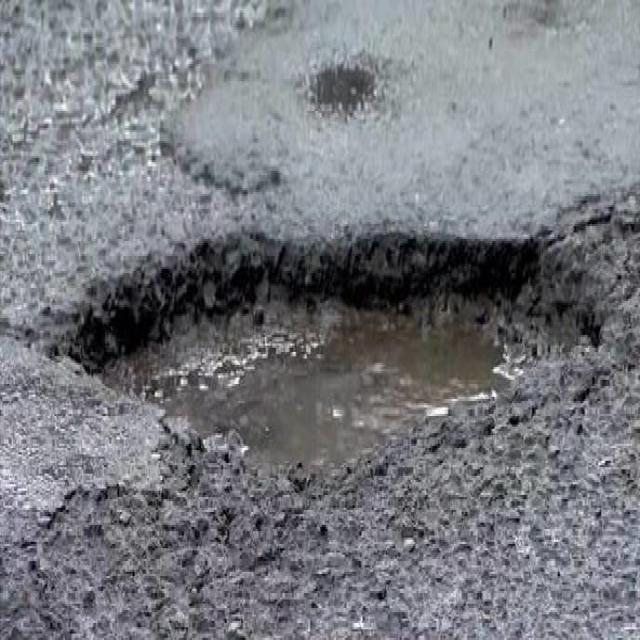pothole: (41, 217, 610, 488), (304, 47, 384, 121)
